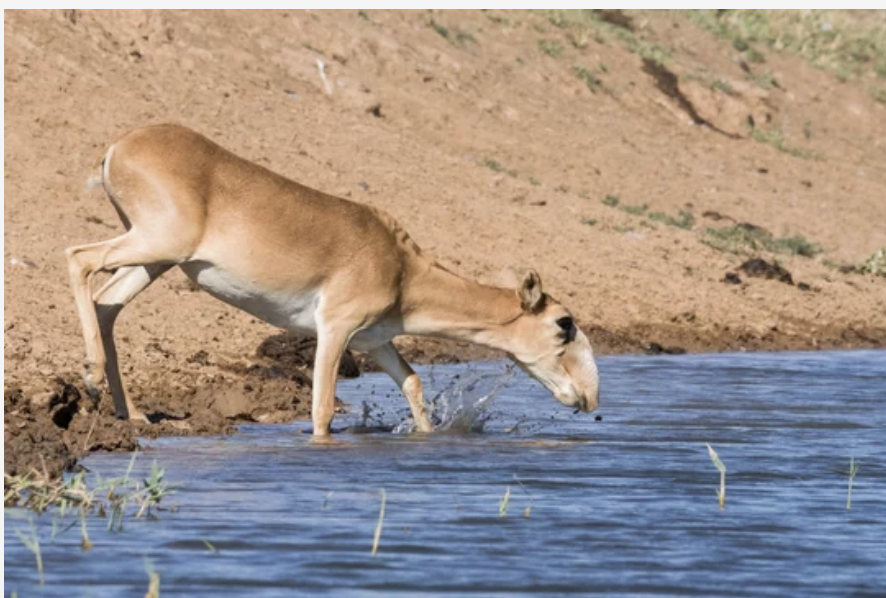saiga: (66, 98, 639, 462)
